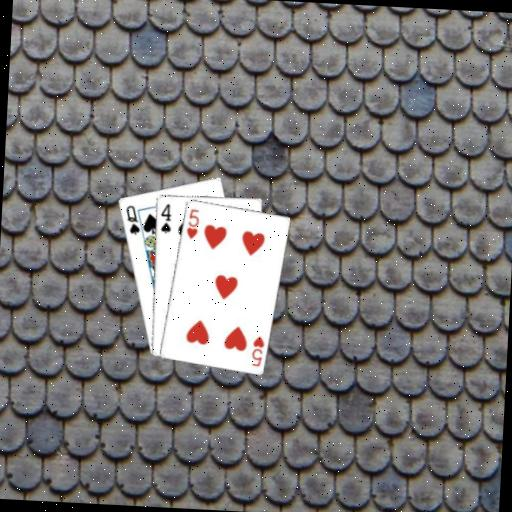4S: (157, 200, 174, 235)
5H: (183, 205, 201, 240), (248, 332, 265, 368)
QS: (121, 203, 142, 237)
